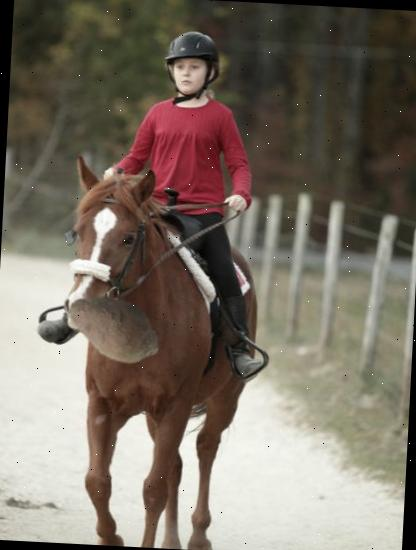Potato: (61, 274, 168, 381)
